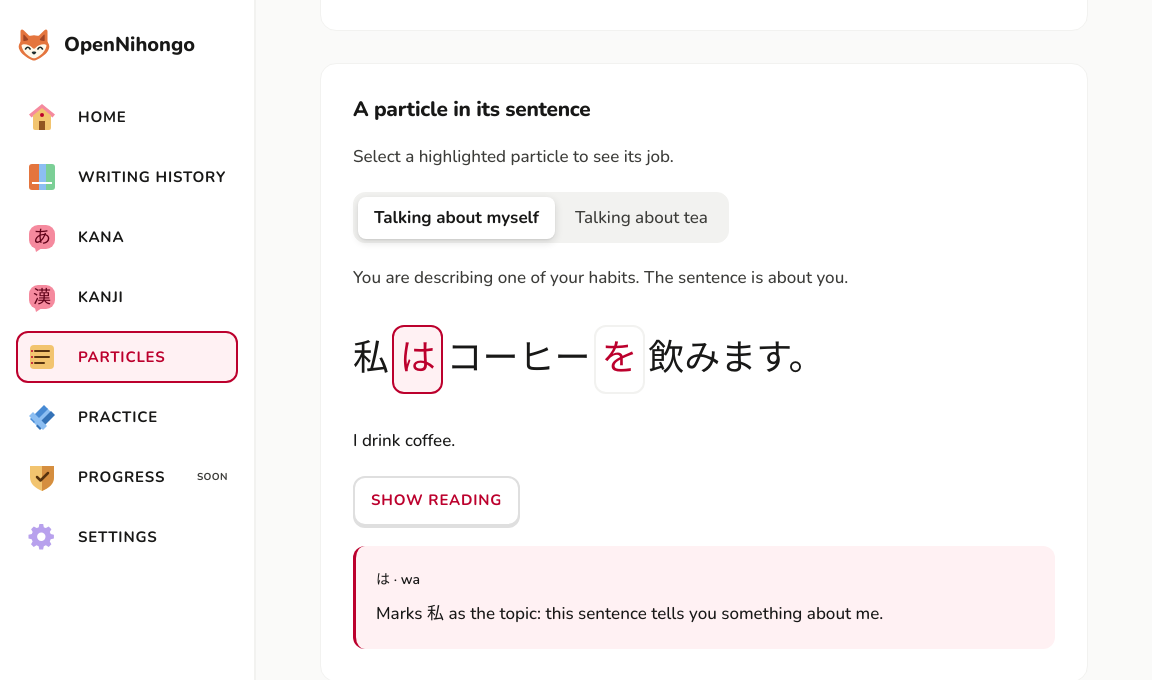
Scenario: supports keyboard exploration, choice feedback, and related-lesson links
(page scrolled)
Type keys " "
(page scrolled)
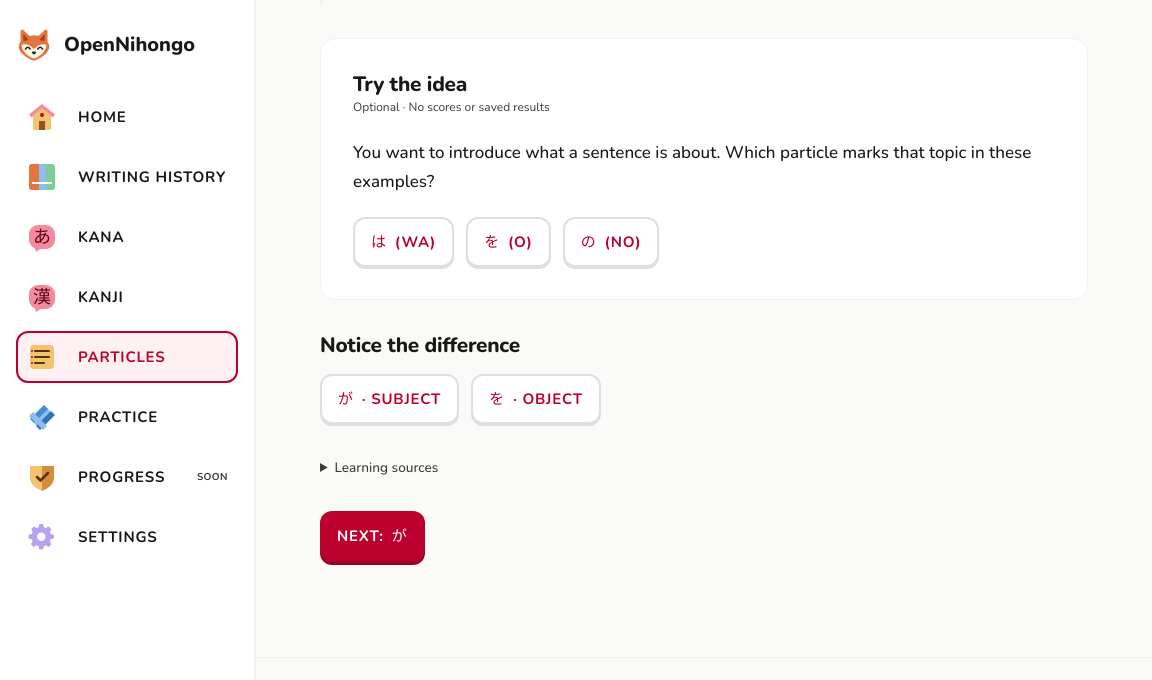
Click the link "が · Subject" at (390, 399), box x1=320 y1=374 x2=459 y2=424
(page scrolled)
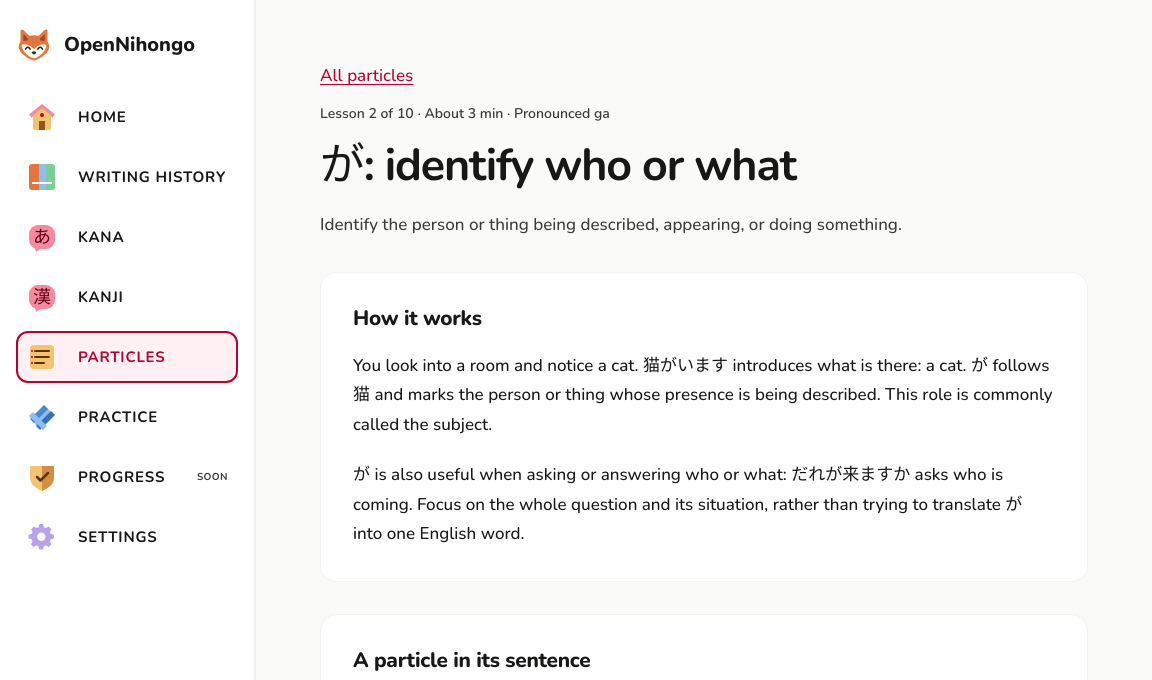
Now the heading "が: identify who or what" is shown, box x1=320 y1=135 x2=796 y2=196
Press Enter
(page scrolled)
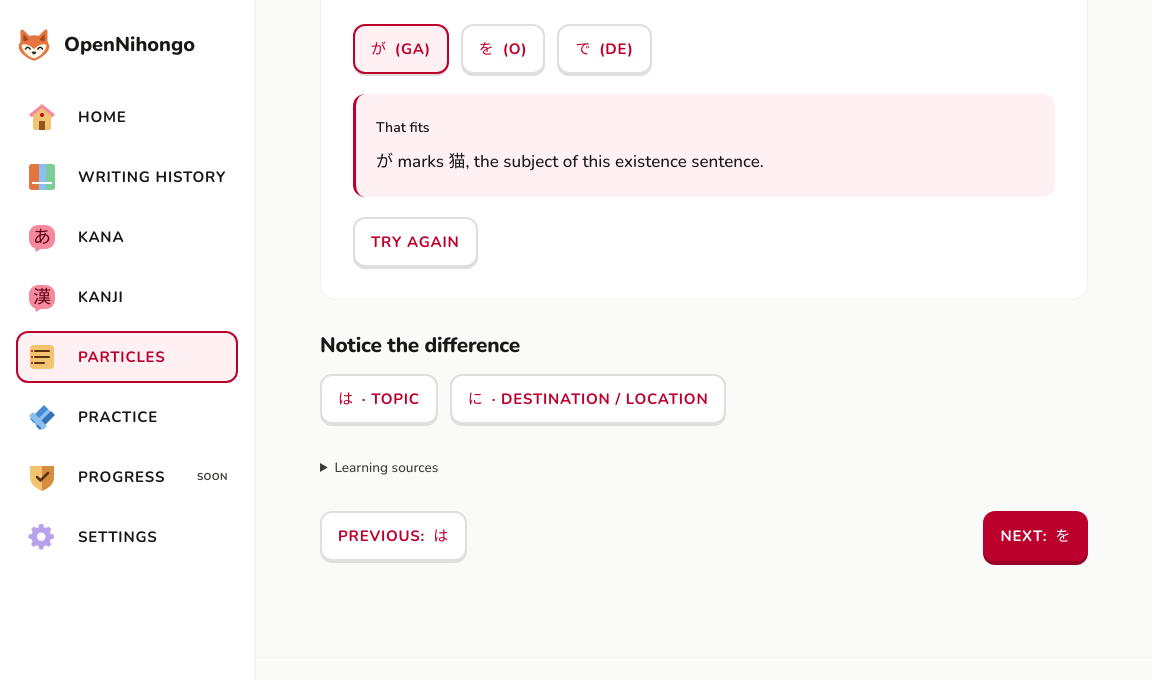
Now the message shows "That fits", box x1=376 y1=118 x2=430 y2=137
Click the heading "Learning sources" at (386, 468), box x1=334 y1=458 x2=438 y2=477
(page scrolled)
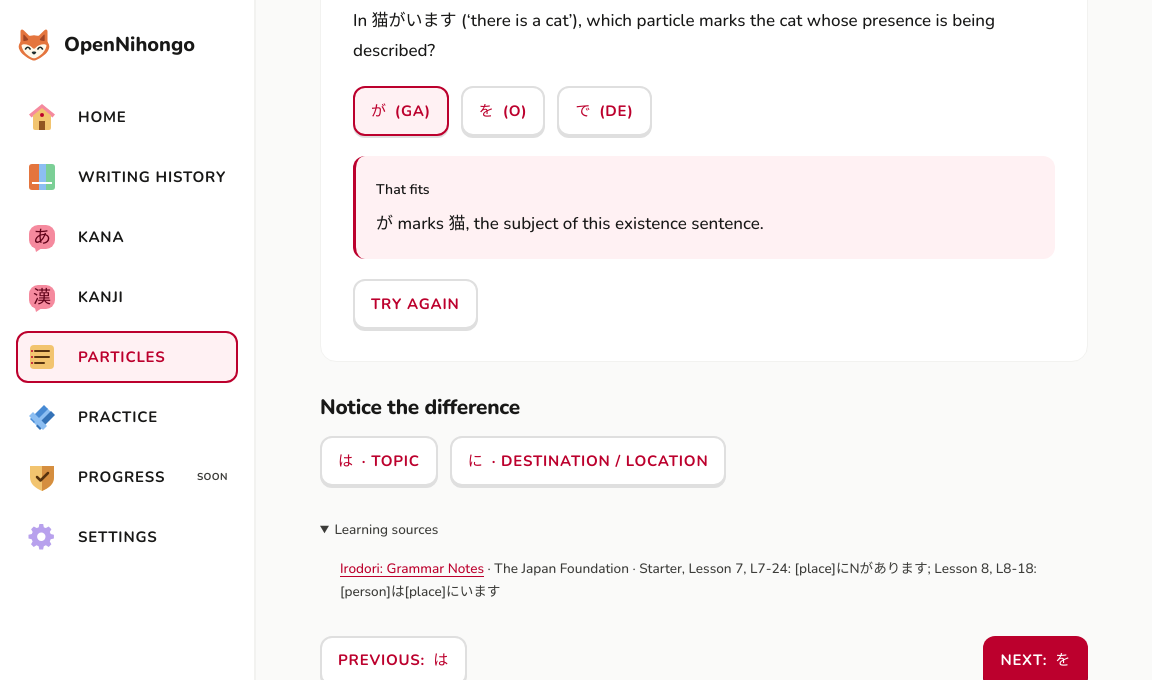
Click the link "Particles" at (127, 357), box x1=16 y1=331 x2=238 y2=383
(page scrolled)
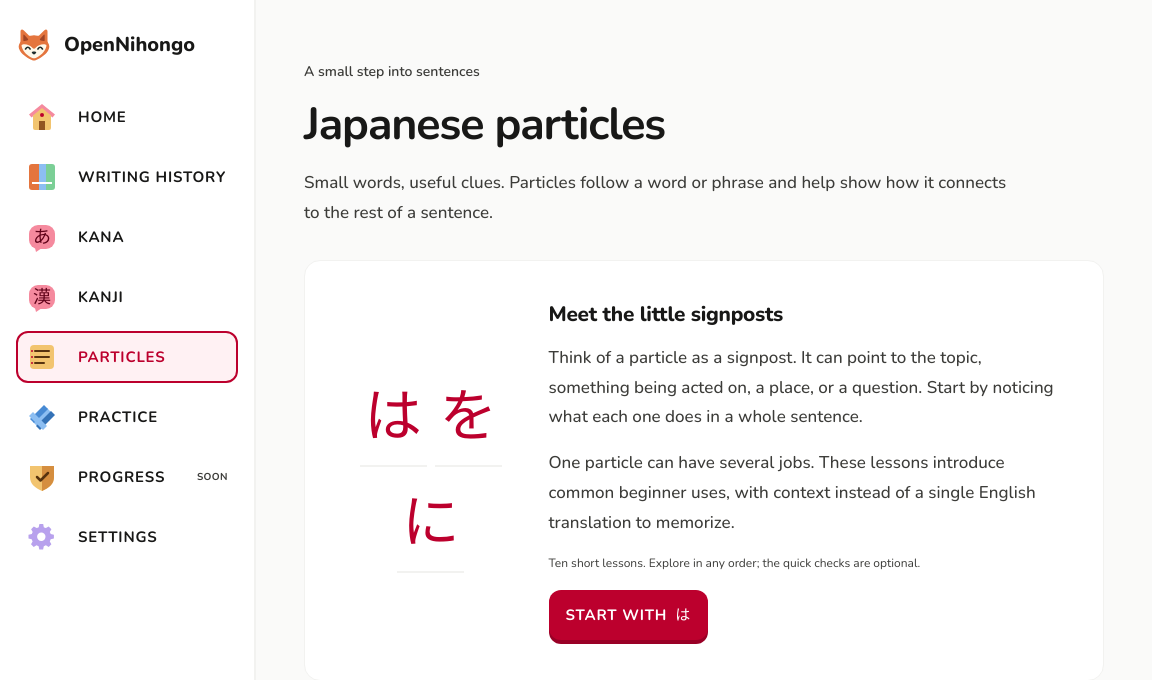
Now the heading "Japanese particles" is shown, box x1=304 y1=94 x2=665 y2=154
